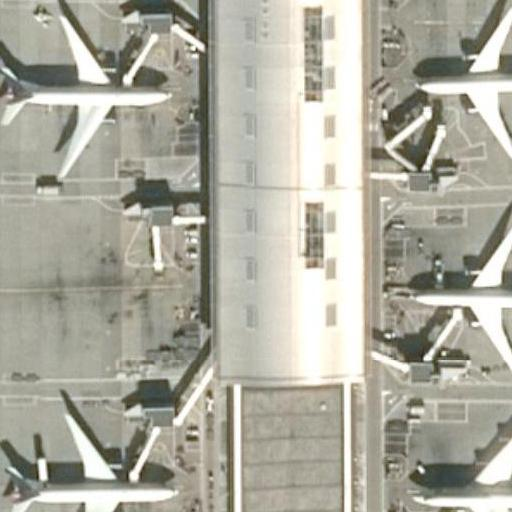Aircraft: (0, 12, 170, 175), (394, 0, 512, 163), (0, 406, 178, 512), (413, 219, 512, 379), (410, 409, 512, 512)
